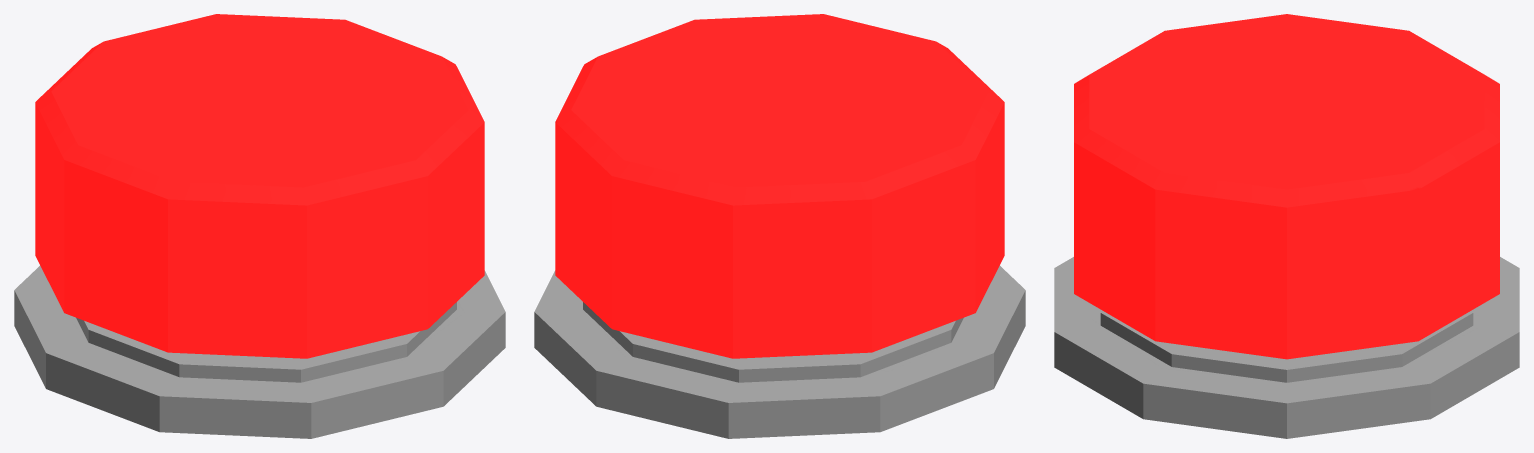
The model's file is red_button.glb.
3 renders of one model, left to right at view 1: azimuth 30°, elevation 25°; view 2: azimuth 150°, elevation 25°; view 3: azimuth 270°, elevation 25°, orthographic.
Visible parts, largest first — view 1: Top, Base; view 2: Top, Base; view 3: Top, Base.
Boxes of the visible parts, bbox=[...] form: Top: bbox=[35, 14, 484, 358]; Base: bbox=[14, 265, 505, 438]; Top: bbox=[555, 14, 1004, 358]; Base: bbox=[534, 265, 1025, 438]; Top: bbox=[1074, 14, 1499, 359]; Base: bbox=[1054, 257, 1519, 438].
Bounding box in the file's own units: 0.2248 × 0.1185 × 0.2138.
1 material, 1 textured.
